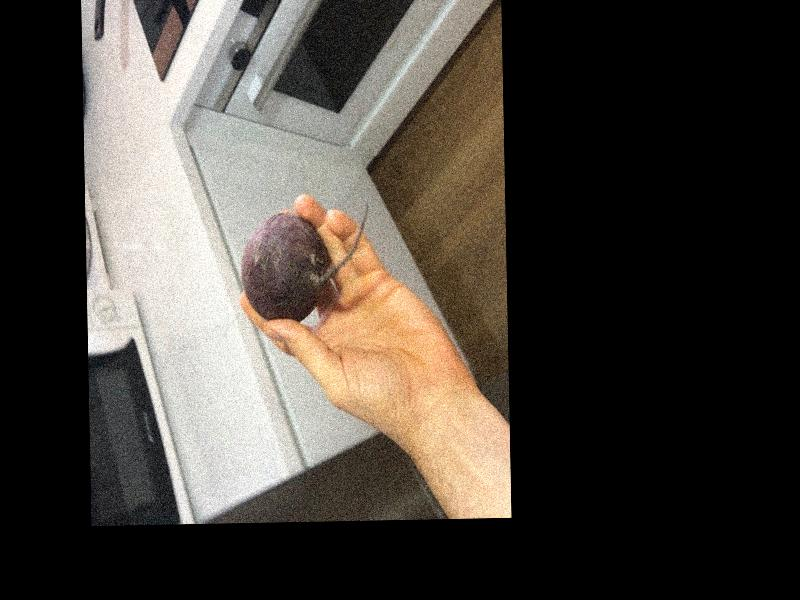Beet: (239, 200, 371, 322)
